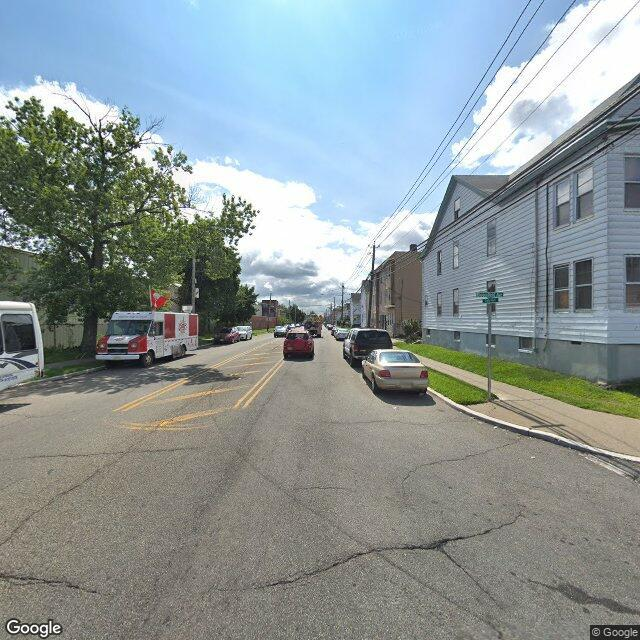pothole: (413, 531, 464, 563)
